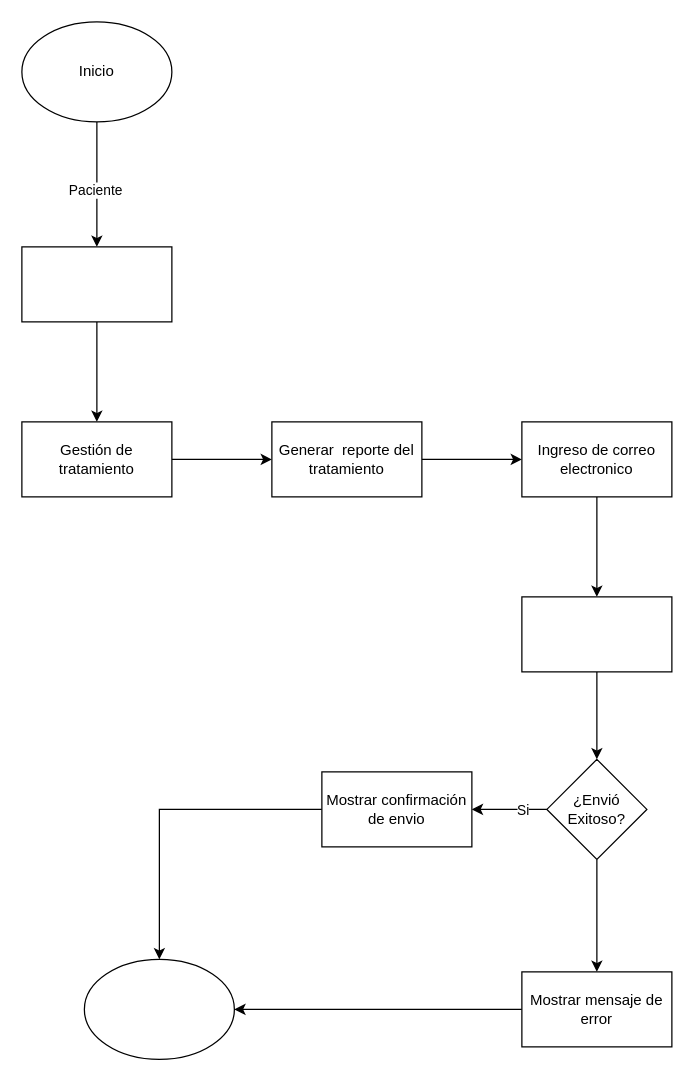
This 694x1081 diagram has some shape labels left out. Each missing label, with the box of its shape:
Envió exitoso: (521, 596, 672, 672)
Fin: (83, 958, 234, 1059)
Inicio Sesión: (21, 246, 172, 322)
